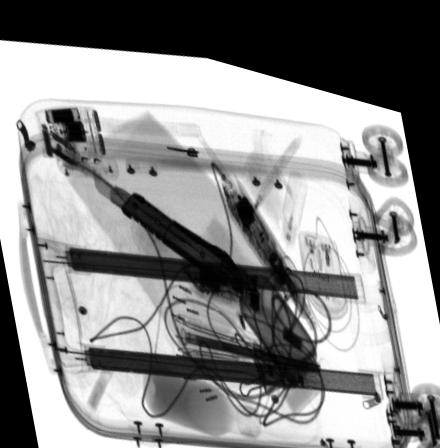Knife: (90, 161, 239, 274)
